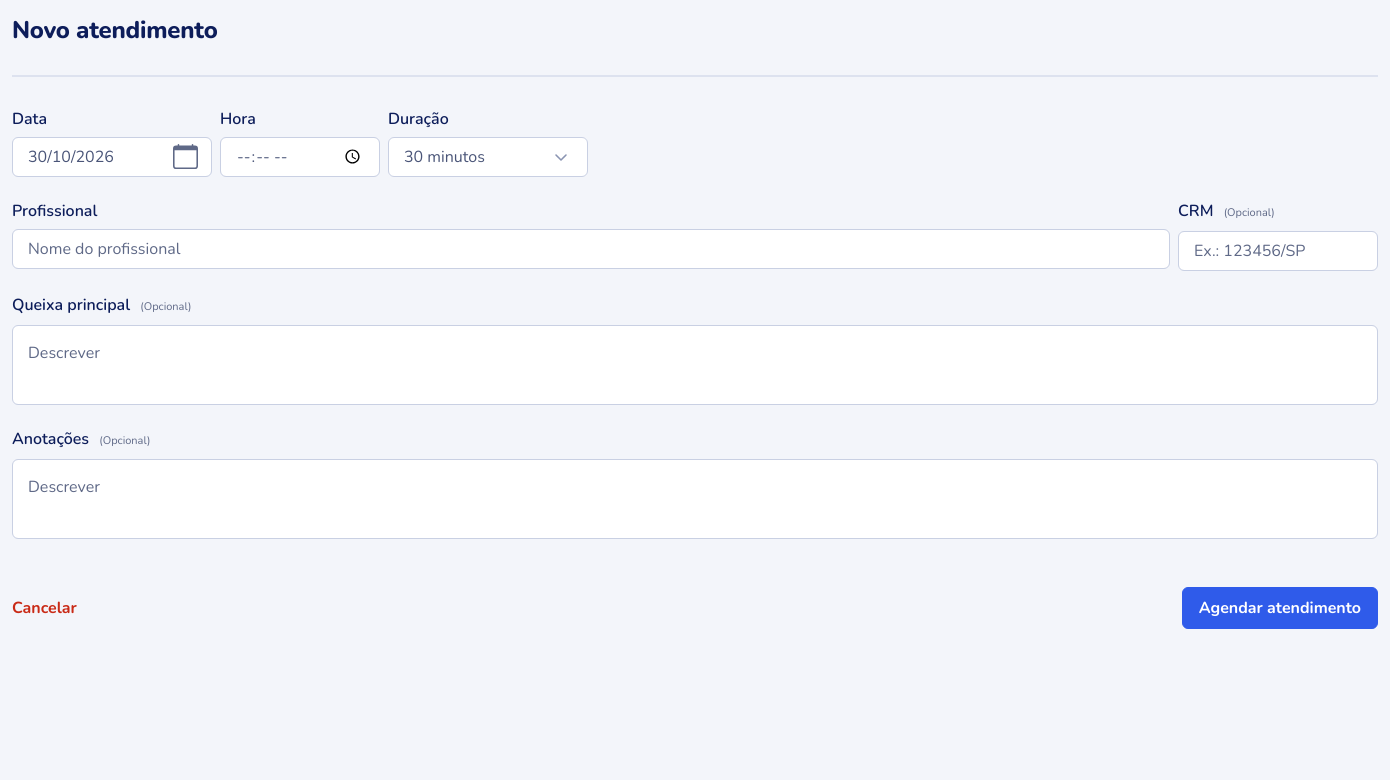
Test: ConsultationForm › blocks submit with client errors and focuses the first one
Clear the field with id "cf-date" at (112, 157), box [12, 137, 212, 177]
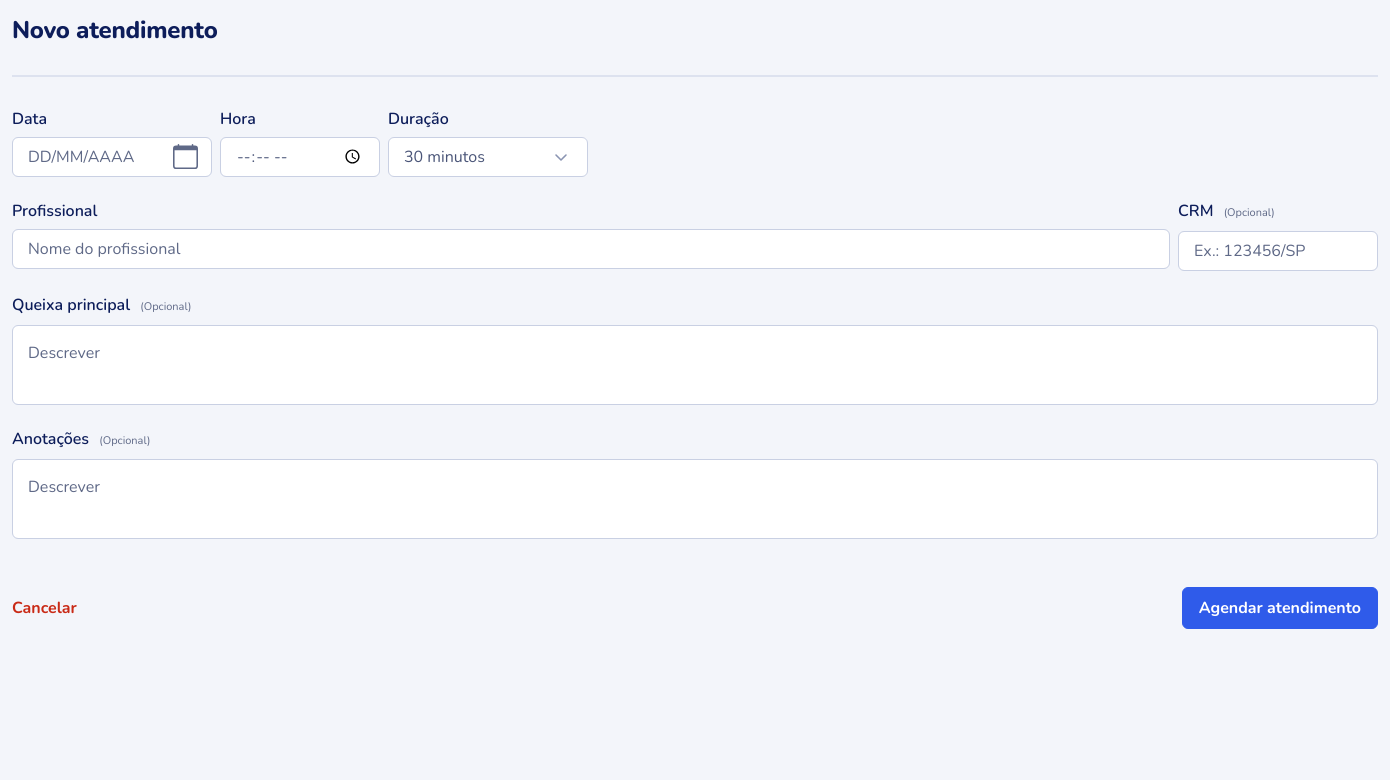
Submit the form
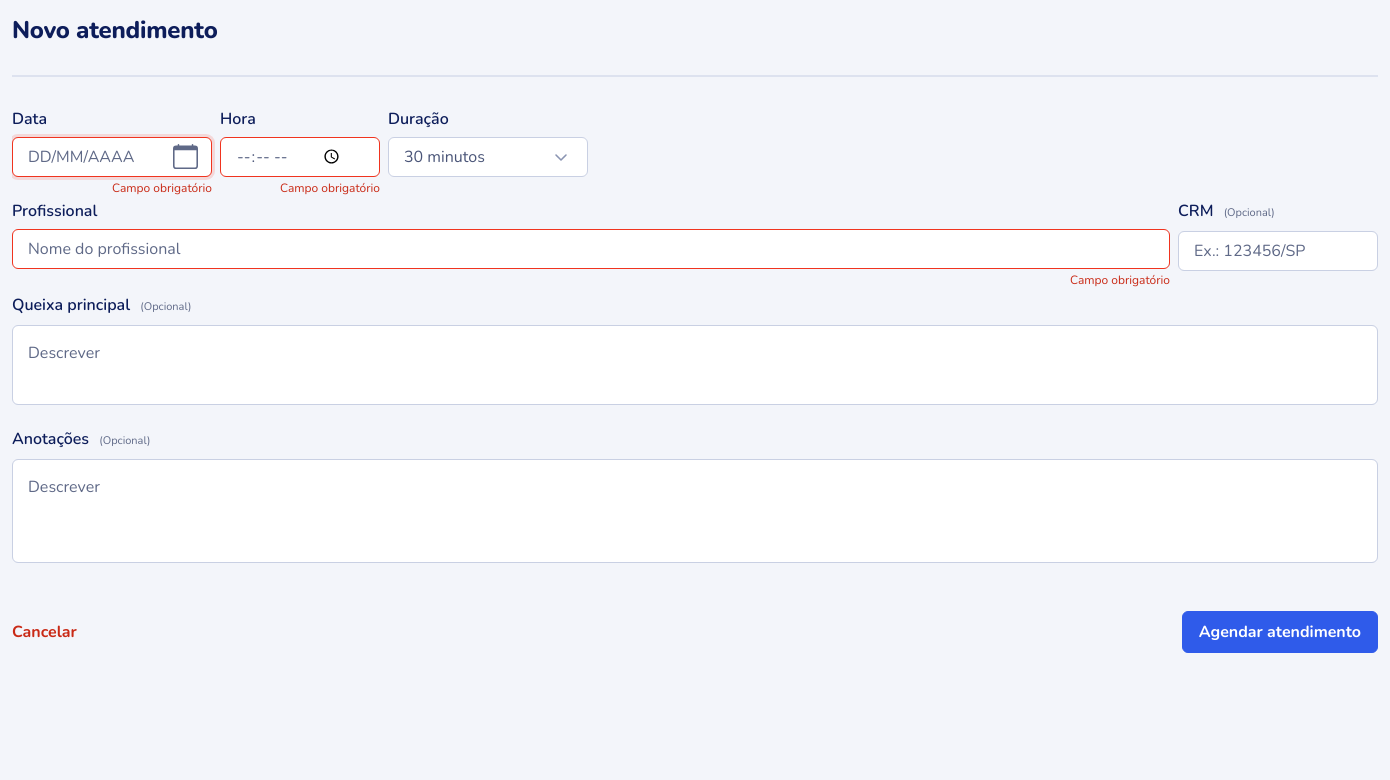
Expected: the text with id "cf-date-error" reads "Campo obrigatório", [112, 180, 212, 196]
